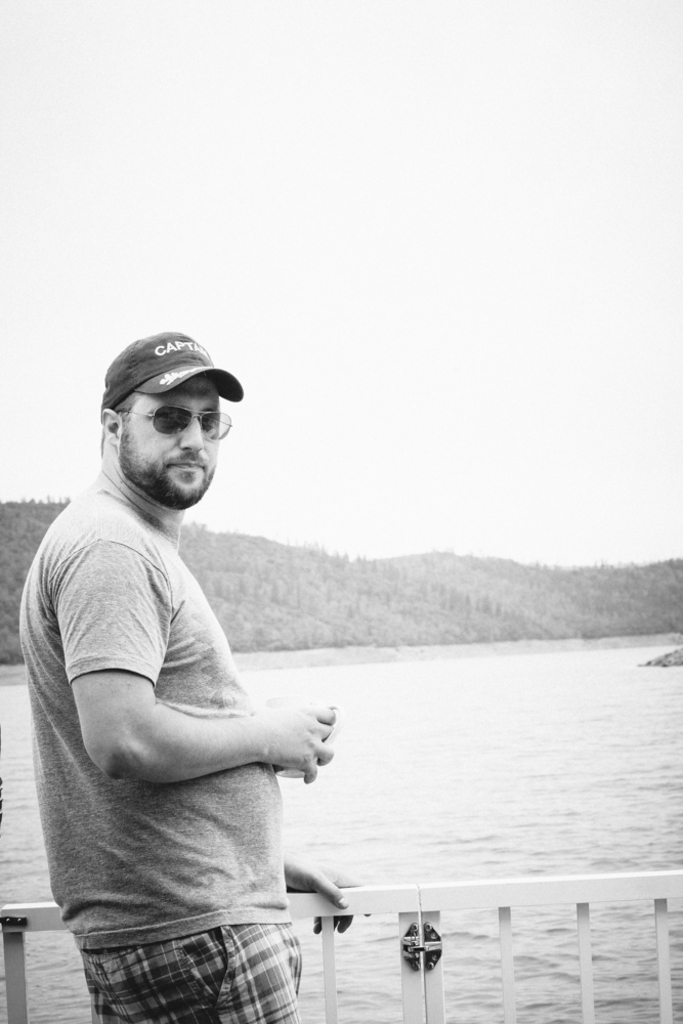Human_hand: (248, 697, 334, 796), (284, 858, 374, 940)
